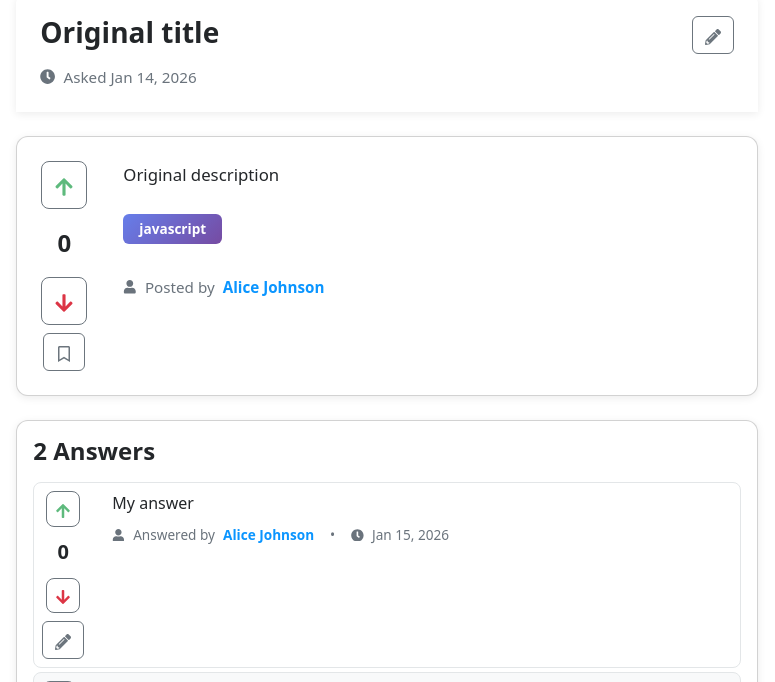
Edit Posts Integration Tests (Redux + rendered QuestionDetail) › editing the title/description as the author shows the new content with no reload, without re-fetching the question
Expected: the heading "Original title" is shown, left=40, top=16, right=219, bottom=50
Click the button named "edit" in the row of "Original title": (713, 35) left=692, top=16, right=734, bottom=54
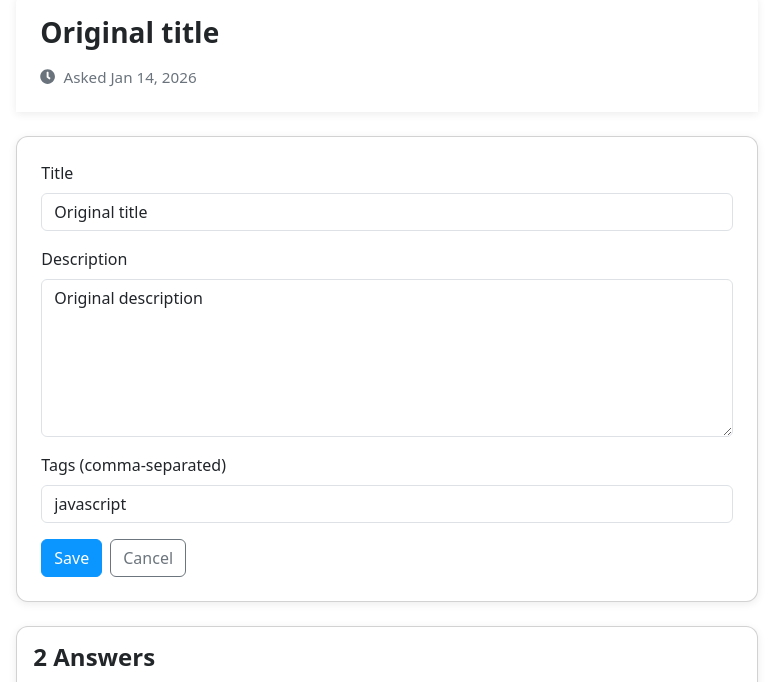
Replace the text in the field labelled "Title" with "Updated title": (387, 212) left=41, top=193, right=733, bottom=231
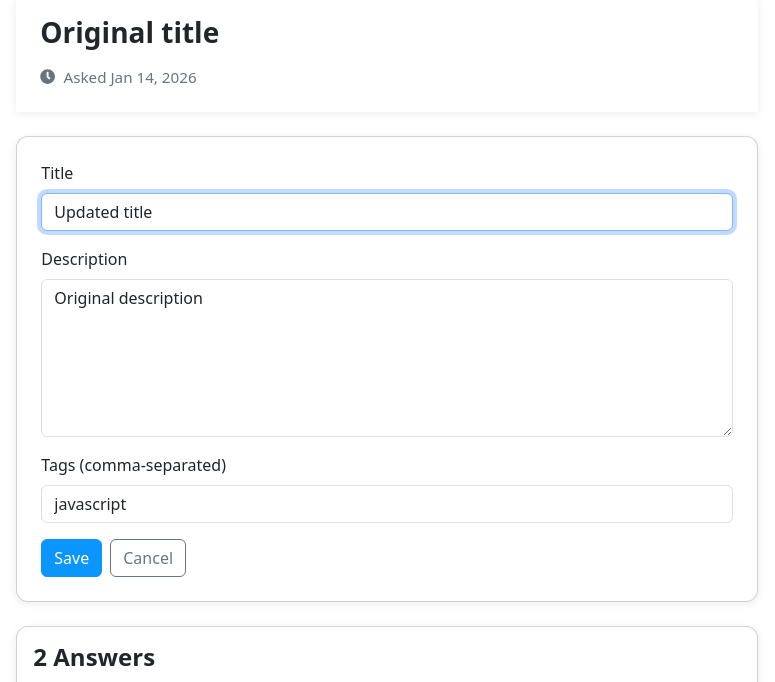
Replace the text in the text box labelled "Description" with "Updated description": (387, 358) left=41, top=279, right=733, bottom=437
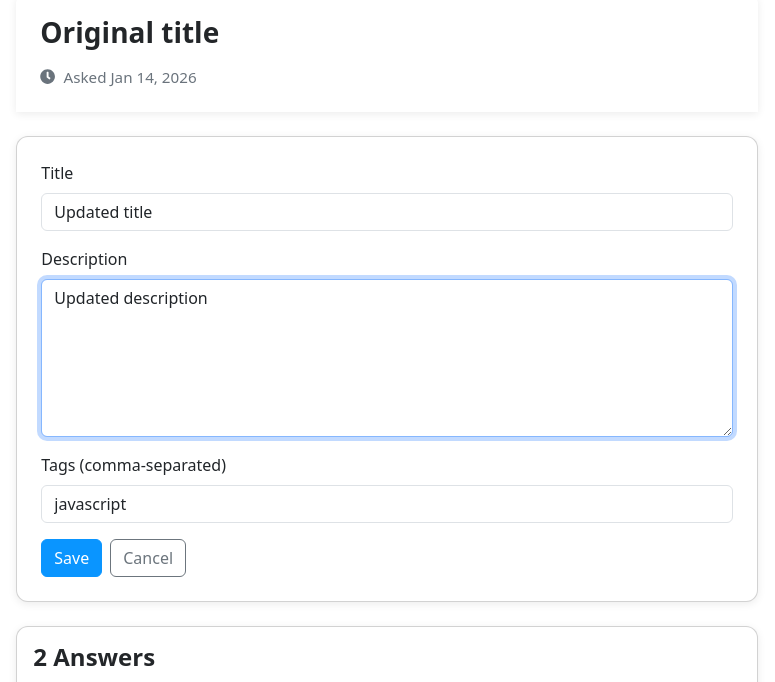
Click the button "Save": (72, 558) left=41, top=539, right=102, bottom=577
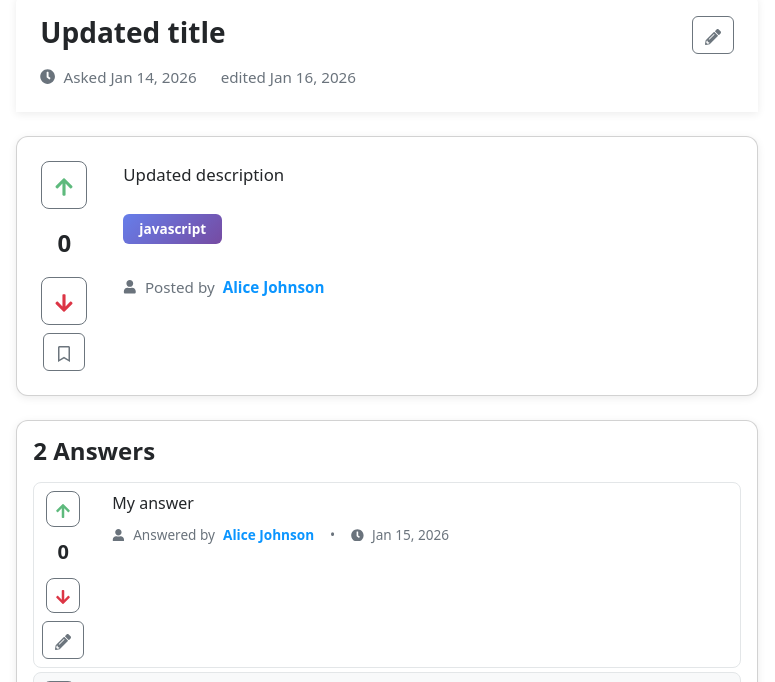
Now the heading "Updated title" is shown, box left=40, top=16, right=226, bottom=50
Now the text "Updated description" is shown, box left=123, top=163, right=284, bottom=186
Now the heading "Original title" is gone
